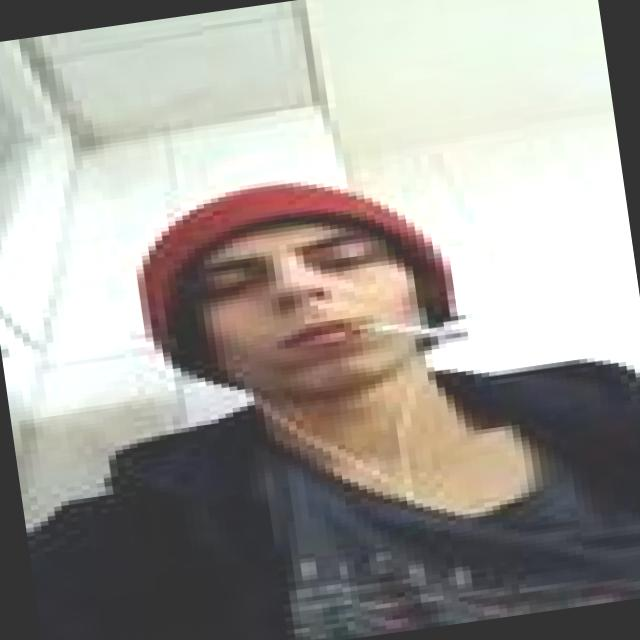cigarette: (343, 300, 477, 362)
